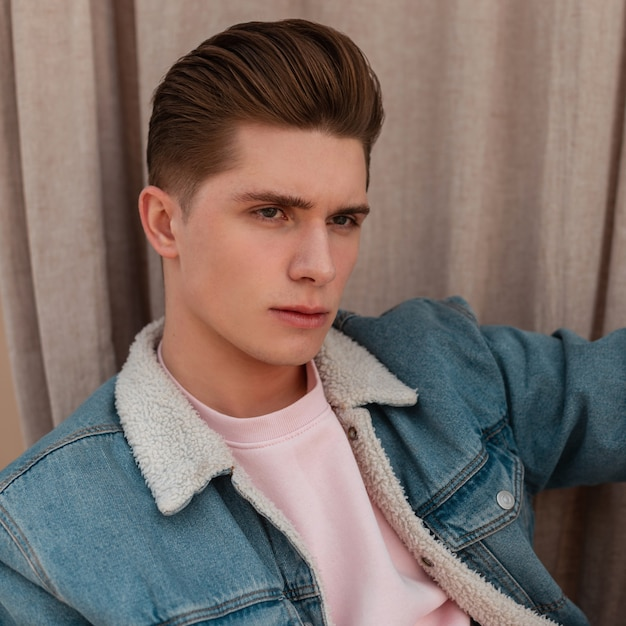teen: (127, 32, 391, 372)
